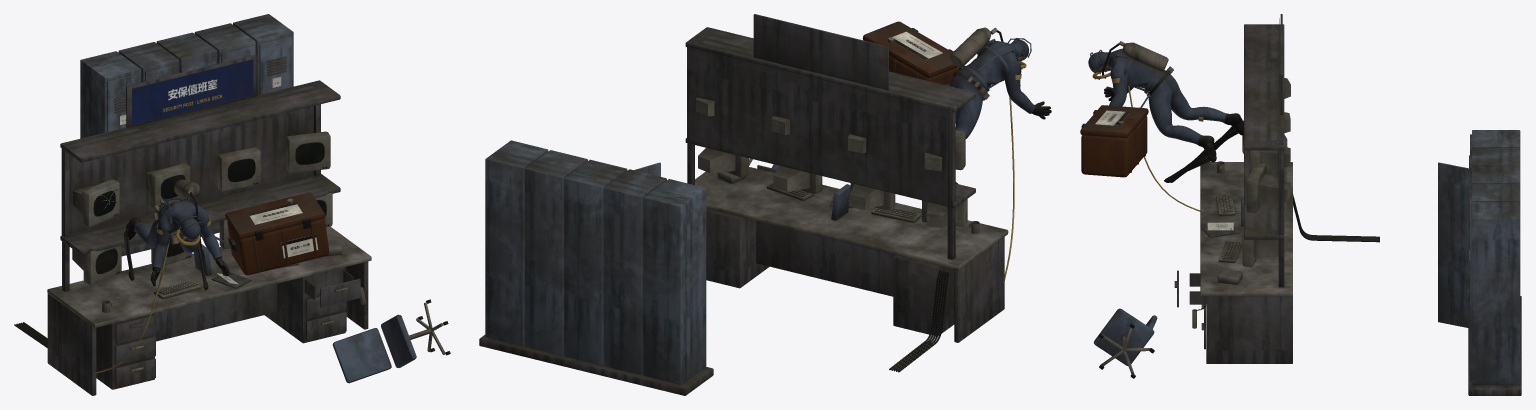
Rendered from security-post.glb.
3 views of the same model, side by side, from view 1: azimuth 30°, elevation 25°; view 2: azimuth 150°, elevation 25°; view 3: azimuth 270°, elevation 25° (orthographic). The views are drawn at different scales.
Visible parts, largest first — view 1: security-console, lockers, probe-case, stencils, security-diver, probe-case-label; view 2: security-console, lockers, security-diver, probe-case, probe-case-label; view 3: security-console, lockers, security-diver, probe-case.
Boxes of the visible parts, x1,y1,x2,y2 form: security-console: [14, 54, 450, 395]; lockers: [80, 14, 293, 256]; probe-case: [215, 192, 329, 275]; stencils: [120, 59, 281, 284]; security-diver: [124, 179, 229, 290]; probe-case-label: [248, 202, 318, 258]; security-console: [685, 14, 1014, 372]; lockers: [479, 140, 713, 395]; security-diver: [950, 27, 1051, 183]; probe-case: [862, 21, 961, 85]; probe-case-label: [892, 31, 942, 60]; security-console: [1094, 14, 1379, 378]; lockers: [1438, 130, 1521, 395]; security-diver: [1088, 41, 1243, 182]; probe-case: [1080, 90, 1150, 177].
Bounding box in the file's own units: 3.98 × 3.05 × 4.57.
Materials: 5 (5 with a texture image).
